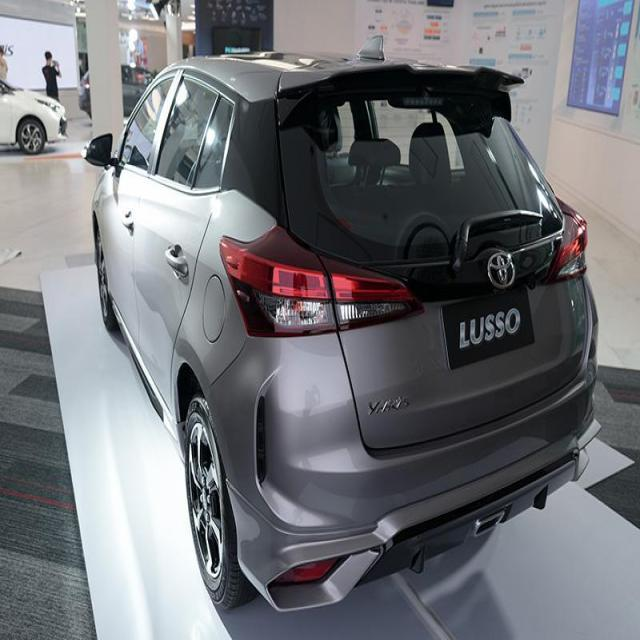Hatchback: (86, 37, 598, 611)
